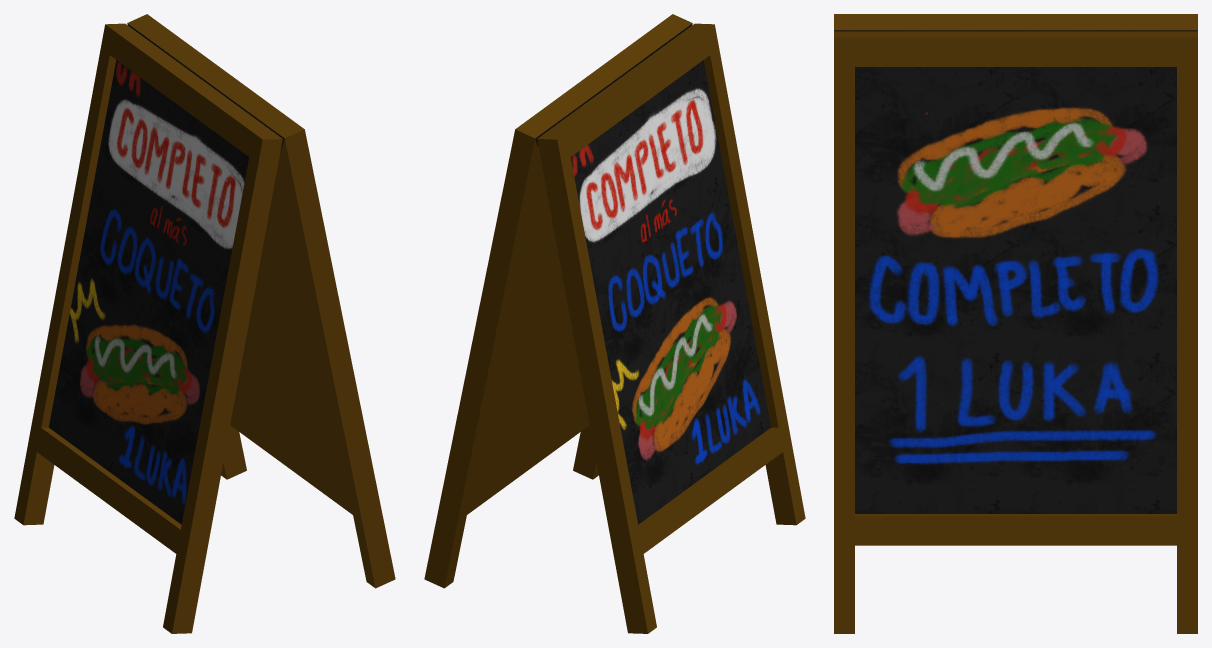
File: pizzarra2.fbx
3 renders of one model, left to right at view 1: azimuth 30°, elevation 25°; view 2: azimuth 150°, elevation 25°; view 3: azimuth 270°, elevation 25°, orthographic. The views are drawn at different scales.
Visible parts, largest first — view 1: Plane.001, Plane.002; view 2: Plane.001, Plane.002; view 3: Plane.002, Plane.001.
Boxes of the visible parts, x1,y1,x2,y2 form: Plane.001: [14, 23, 282, 633]; Plane.002: [127, 14, 395, 588]; Plane.001: [537, 23, 805, 633]; Plane.002: [424, 14, 692, 588]; Plane.002: [834, 31, 1197, 633]; Plane.001: [834, 14, 1197, 31].
Size of the model in its own units: 164 by 334 by 200.
